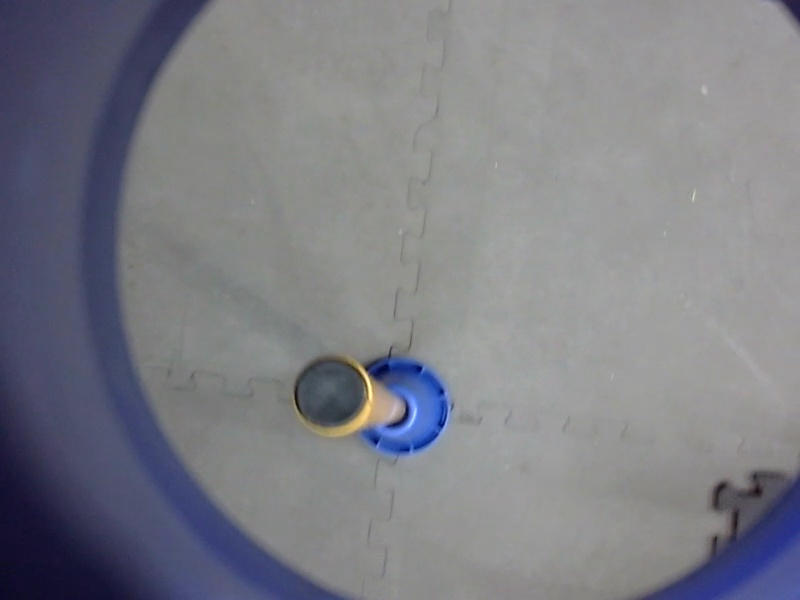tip: (284, 348, 380, 442)
